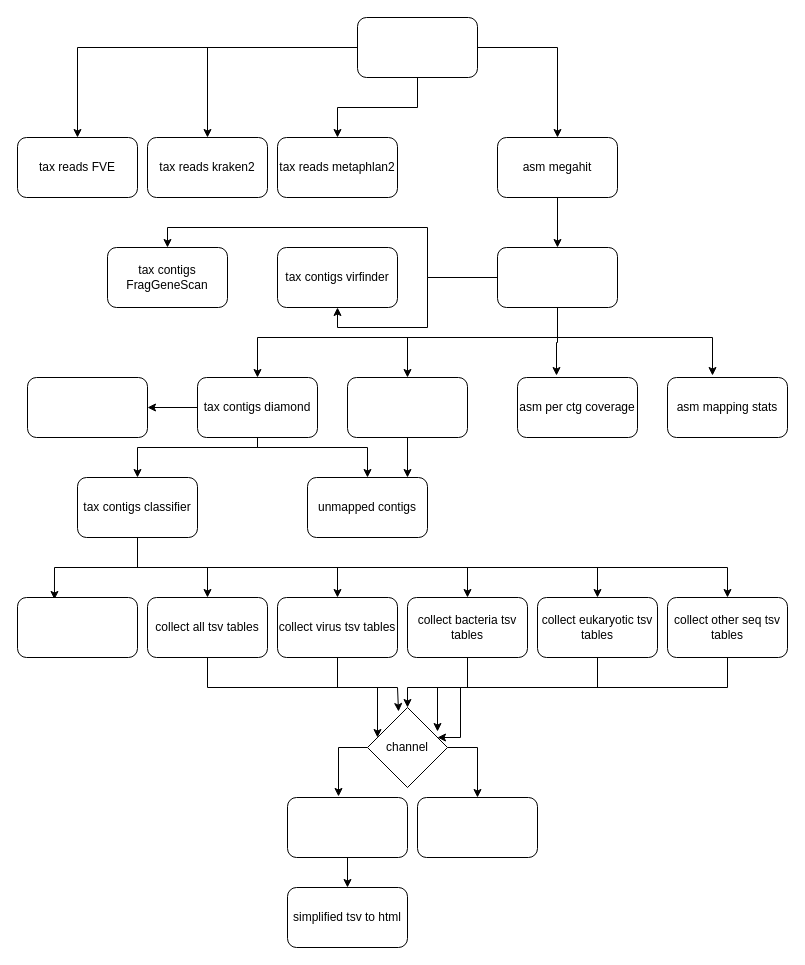
Some shapes in this 805 by 965 pixel diagram are drawn without their labels. Here are the shapes that lost their labels. From the top down, the box of each, then its label:
(356, 16, 478, 78): Preprocessed reads
(496, 246, 618, 308): asm filter contigs
(26, 376, 148, 438): tax contigs diamond view
(346, 376, 468, 438): tax contigs kraken2
(16, 596, 138, 658): tsv to html each sample
(286, 796, 408, 858): tsv to simplified tsv
(416, 796, 538, 858): collected tsv to html
